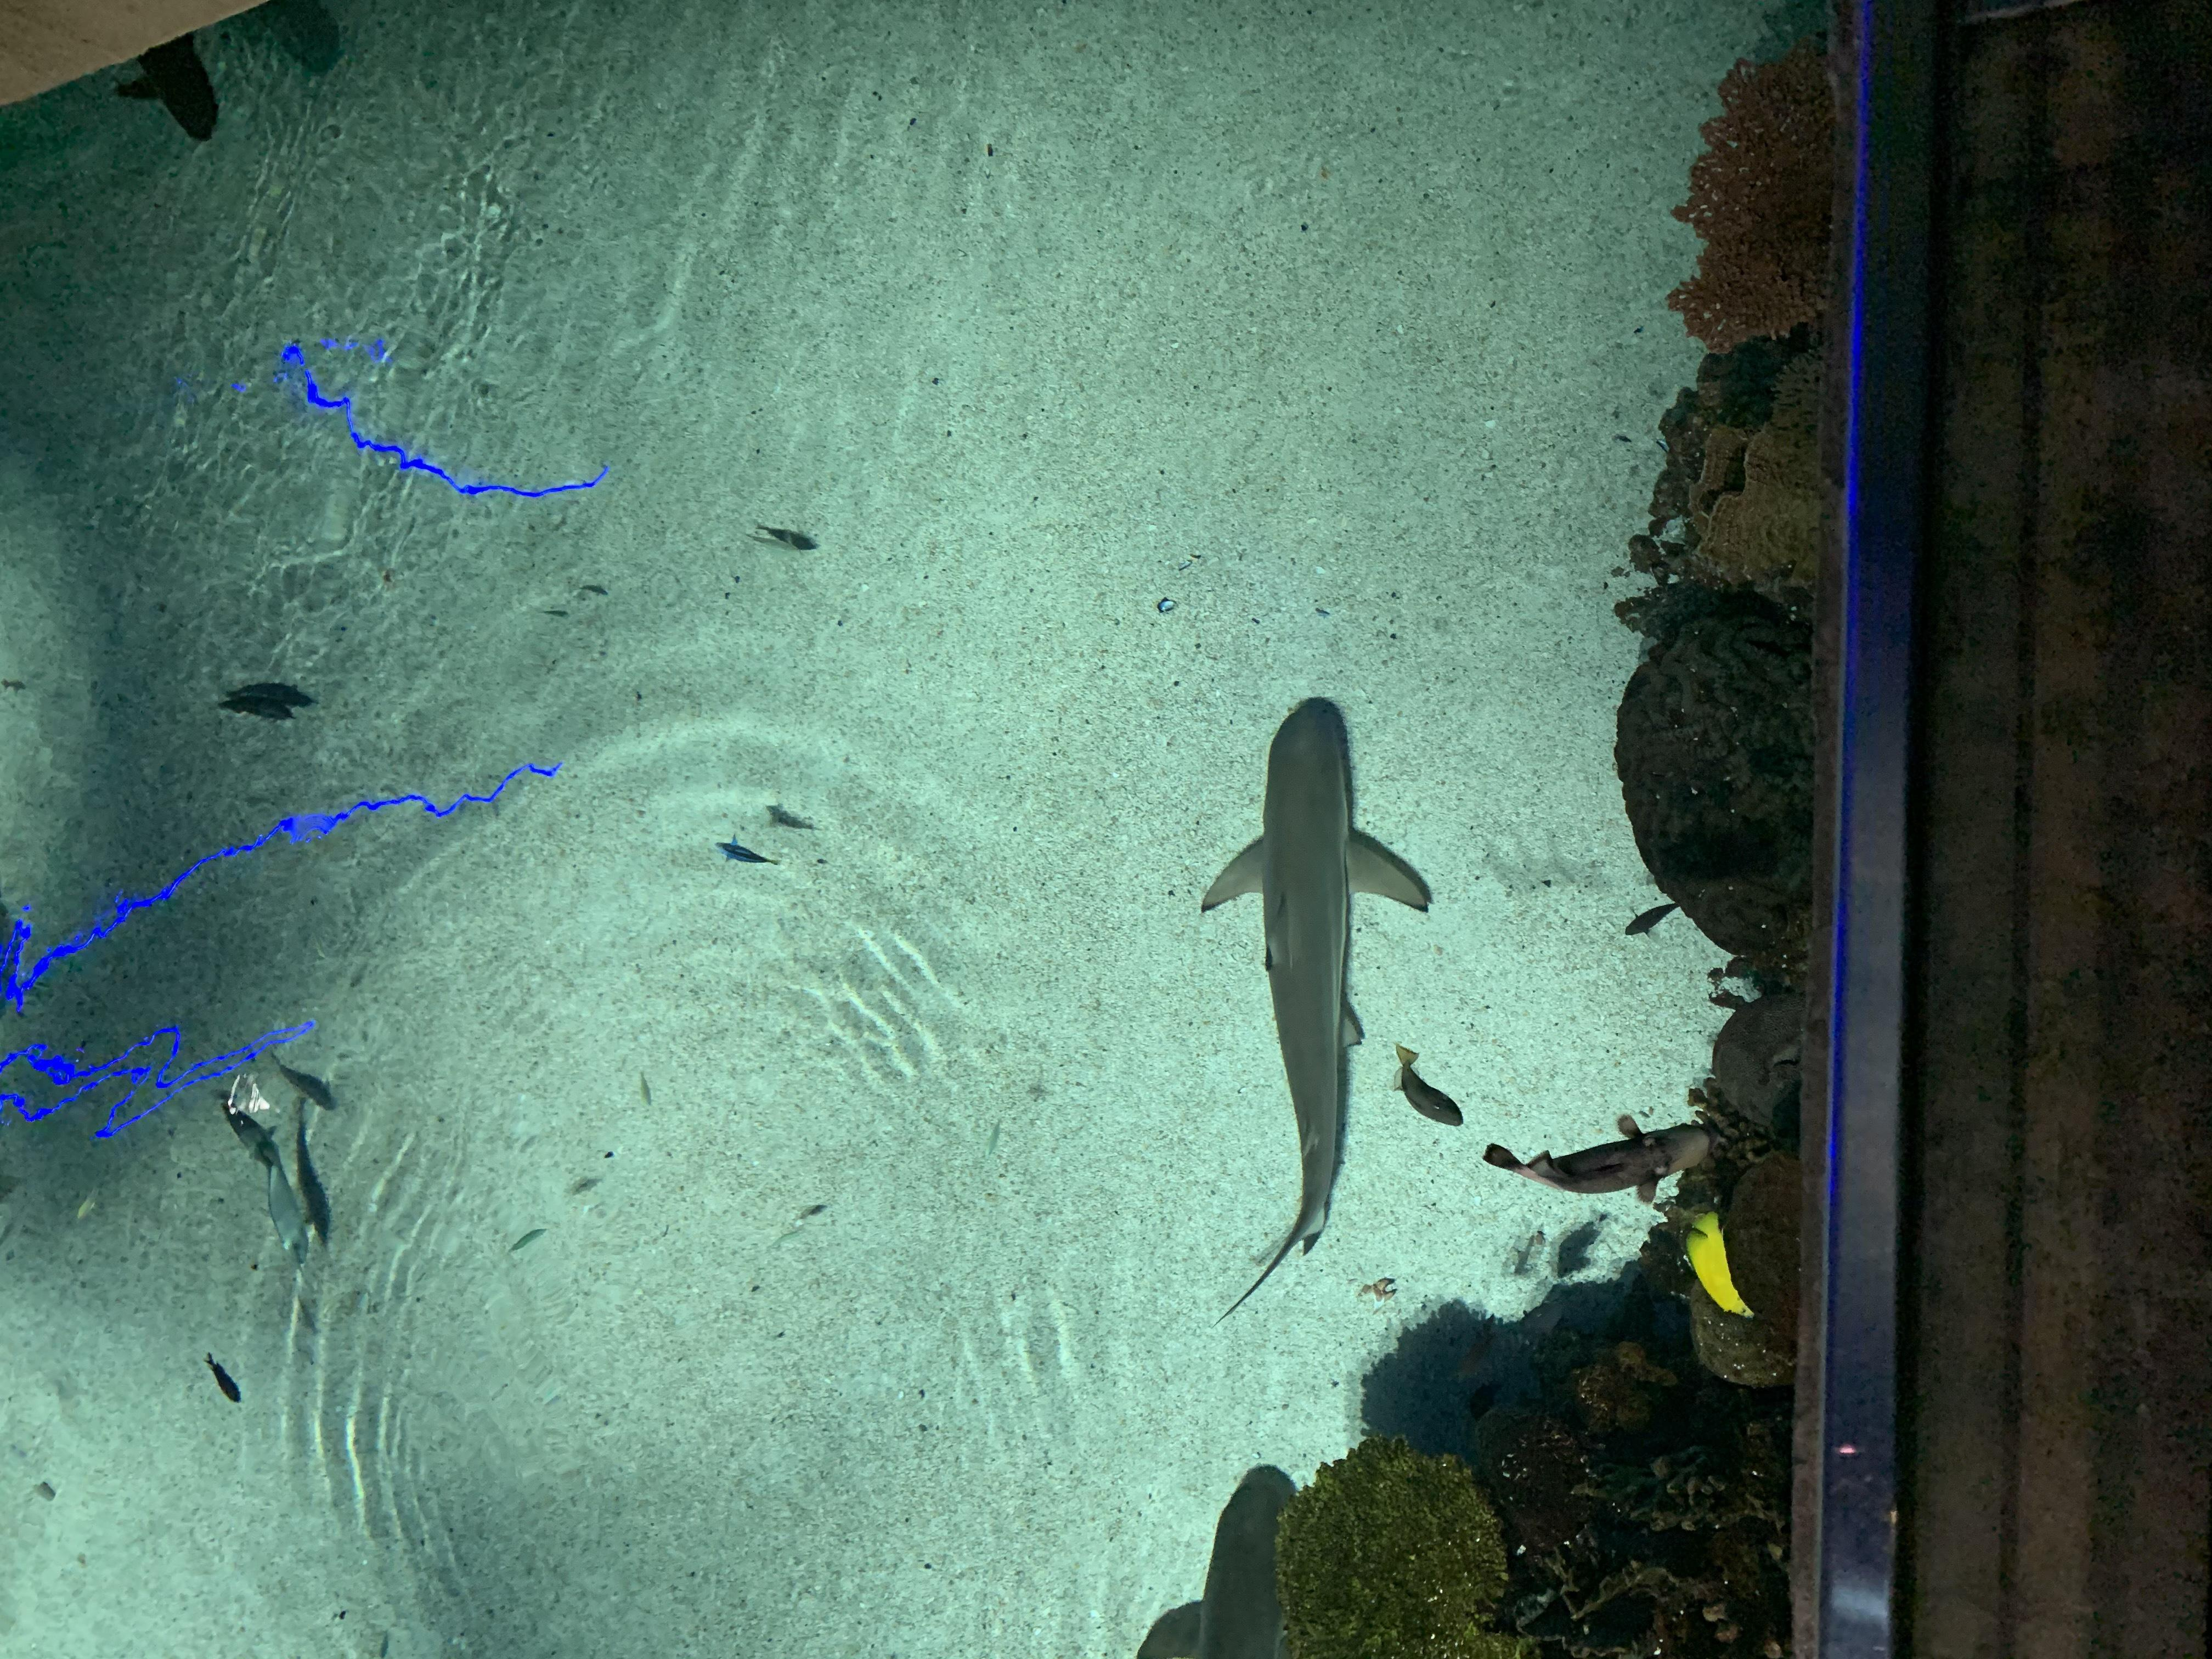fish: (1480, 1108, 1717, 1208), (1388, 1039, 1470, 1133), (211, 1086, 284, 1171), (261, 1162, 310, 1270), (270, 1053, 340, 1112), (214, 692, 301, 725), (1620, 899, 1686, 943), (712, 833, 784, 871), (200, 1351, 246, 1406), (738, 526, 803, 559), (505, 1227, 547, 1255), (578, 580, 617, 601), (639, 1068, 651, 1107)
shark: (1191, 692, 1435, 1333)
